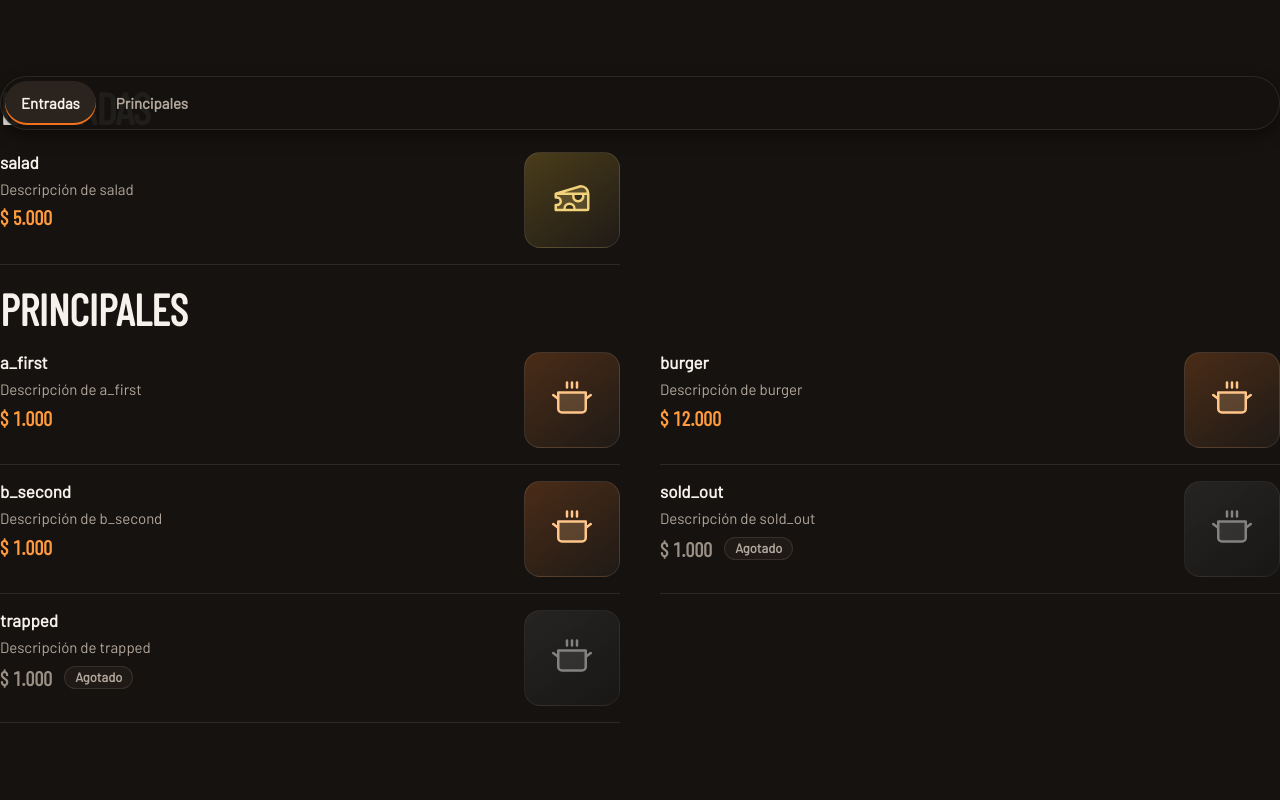
Test case: MenuScreen: la carta (RF7-RF10, RF13, RF34, RF45) › carta cargada (RF7, RF10) › tocar un plato disponible abre su ficha (RF14)
(page scrolled)
Check: the navigation bar is shown, box [0, 76, 1279, 130]
Click the button "burger Descripción de burger $ 12.000".
click(684, 362)  # box [660, 336, 1279, 464]
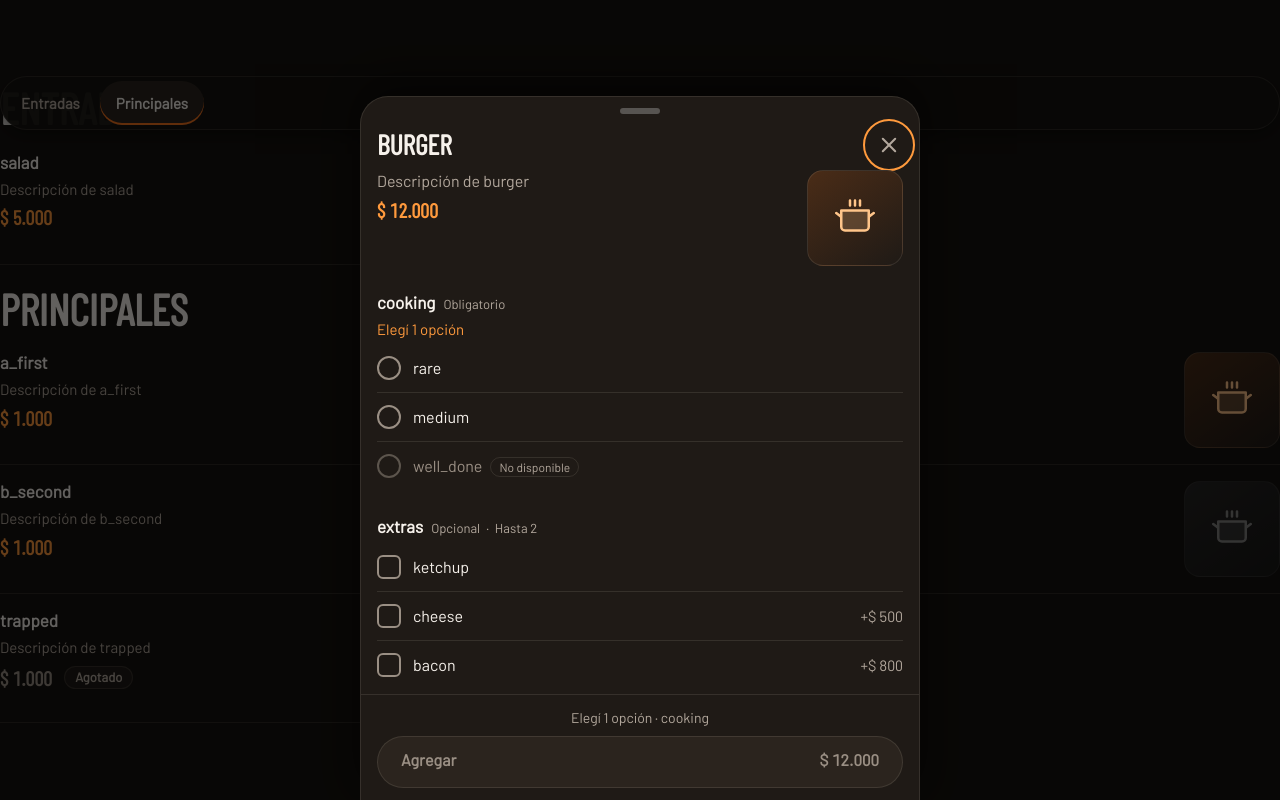
Check: the dialog "burger" is shown
